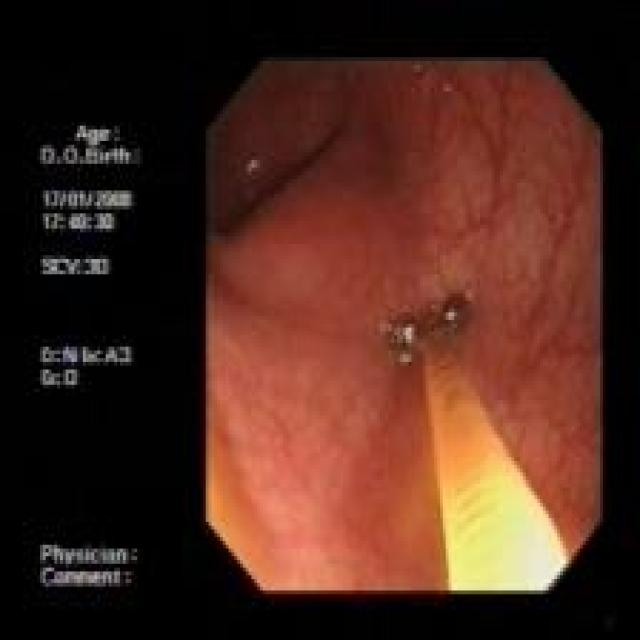color misalignment: (38, 118, 145, 589)
contrast: (208, 60, 400, 242)
instrument: (381, 290, 568, 590)
saturation: (495, 488, 568, 590)
